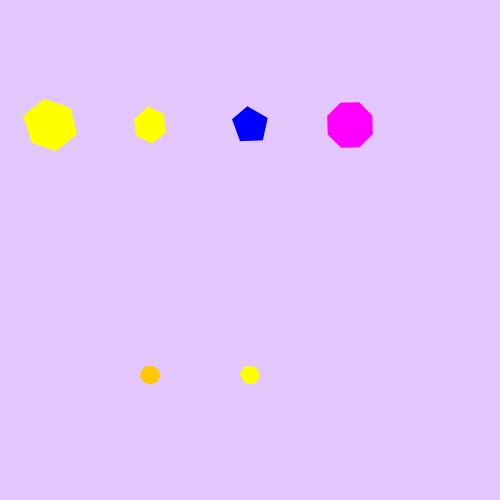hexagon: (19, 99, 82, 151), (128, 106, 173, 144), (235, 362, 265, 388)
nonagon: (136, 361, 165, 389)
octagon: (322, 97, 378, 153)
pentagon: (229, 104, 272, 147)
